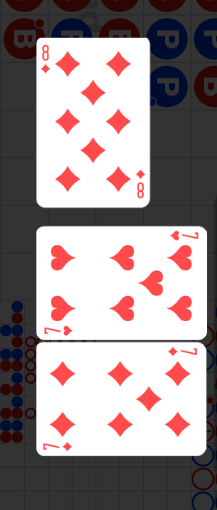7D: (167, 346, 198, 358)
7H: (168, 229, 200, 242)
8D: (40, 44, 52, 76)
